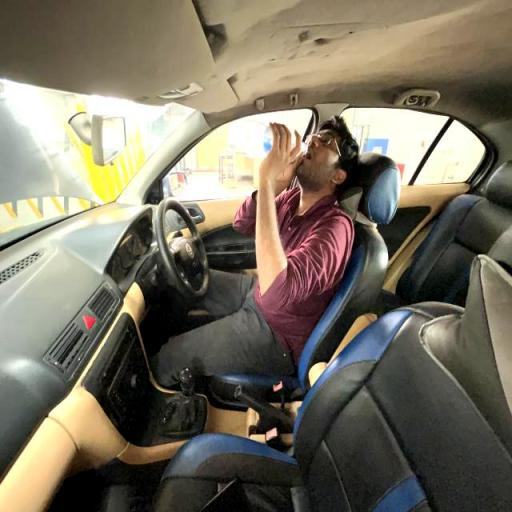Drinking: (208, 112, 362, 354)
